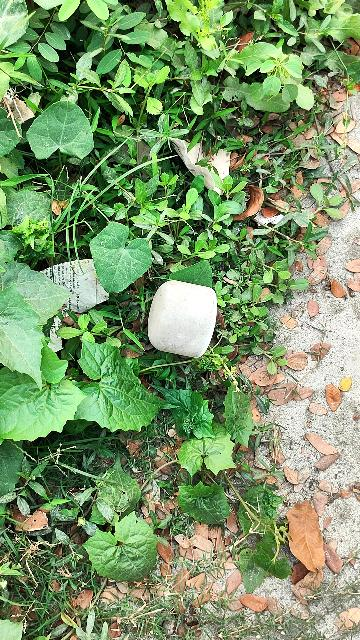hardplastic: (141, 267, 228, 375)
